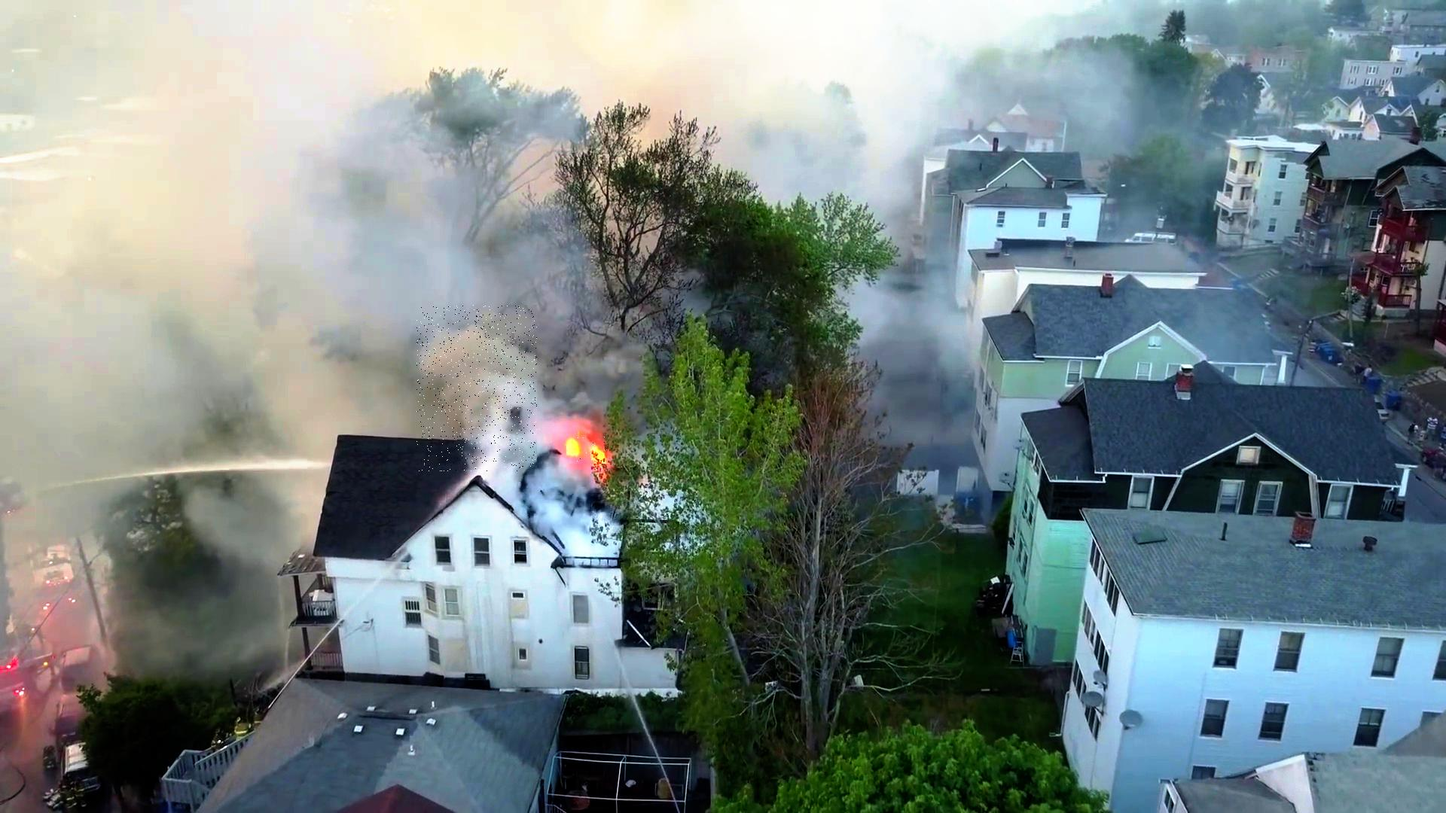fire: (567, 435, 608, 464)
smoke: (417, 305, 537, 472)
